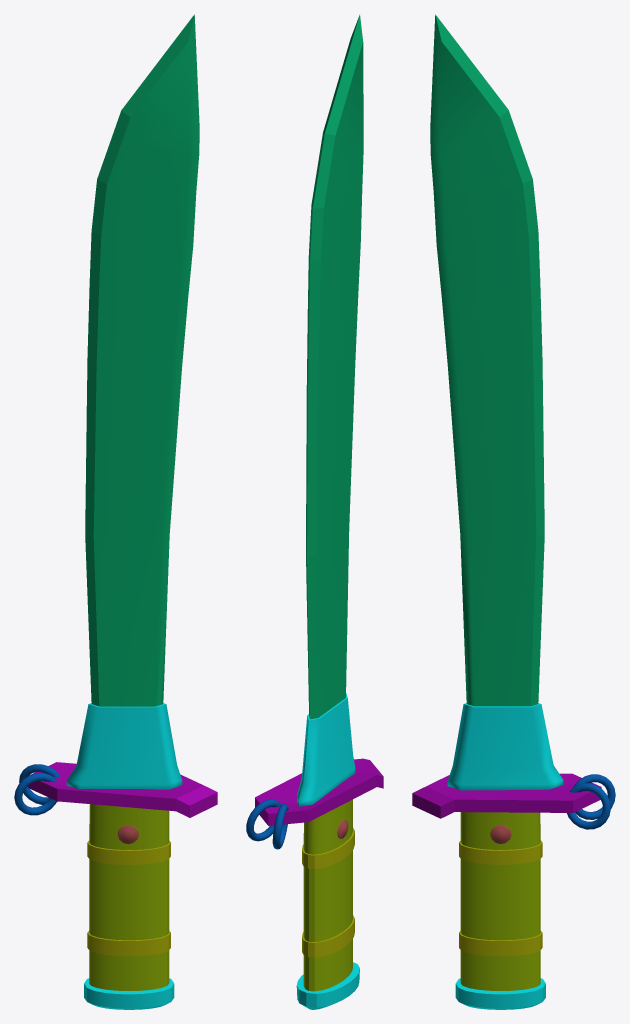
File: Goblin_Sword.fbx
3 views of the same model, side by side, from view 1: azimuth 90°, elevation 25°; view 2: azimuth 150°, elevation 25°; view 3: azimuth 270°, elevation 25° (orthographic). The views are drawn at different scales.
Parts seen in each view (by area): view 1: Sword_Handle4; view 2: Sword_Handle4; view 3: Sword_Handle4.
Part boxes in pixels (x1,y1,x2,y2): Sword_Handle4: [14, 14, 217, 1009]; Sword_Handle4: [246, 14, 383, 1009]; Sword_Handle4: [412, 14, 615, 1009].
Bounding box in the file's own units: 0.4033 × 5.76 × 1.07.
